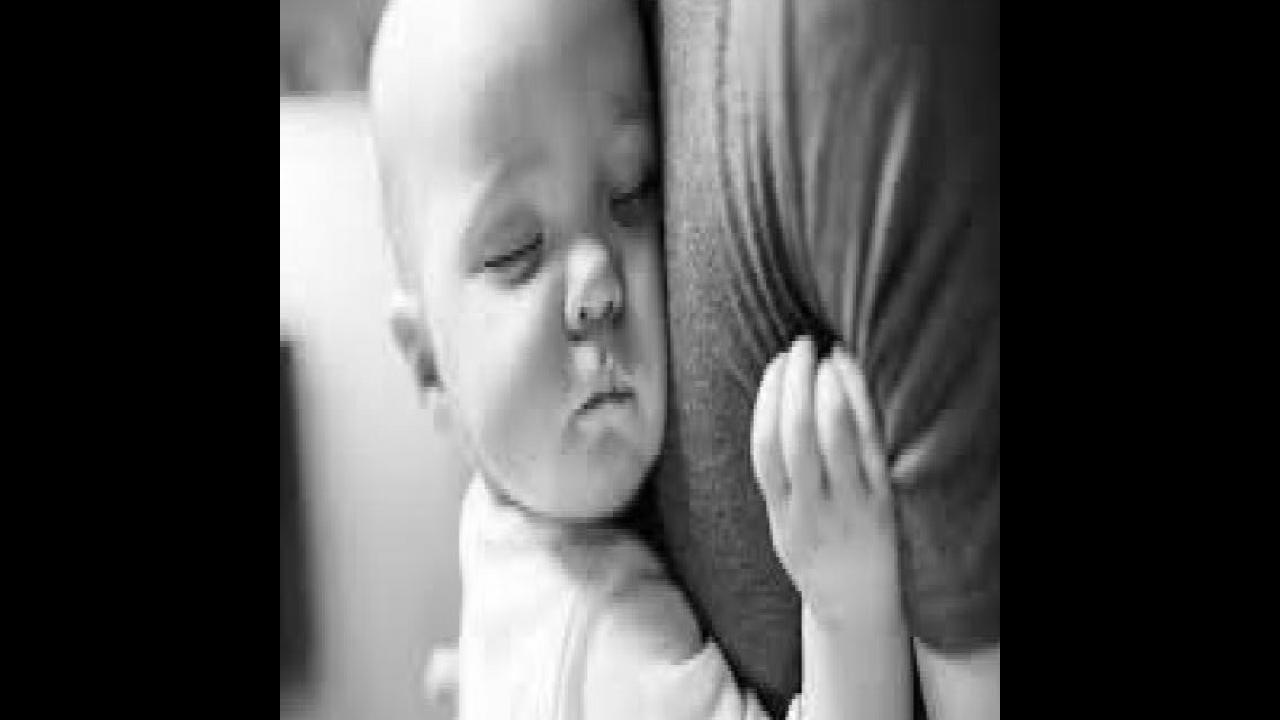hand: (745, 336, 897, 638)
